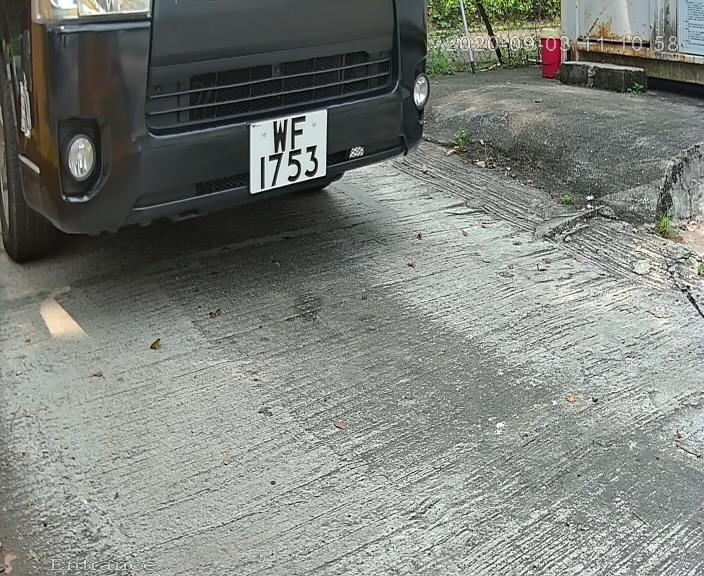License Plate: (236, 103, 337, 201)
